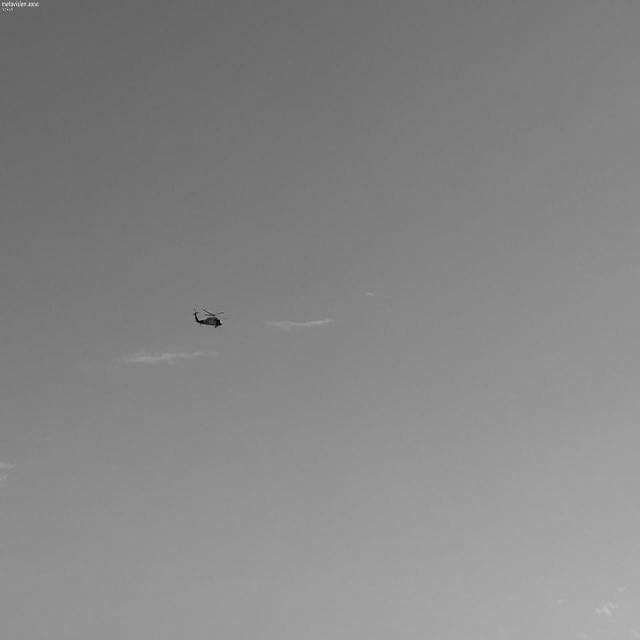helikopter: (175, 276, 252, 352)
